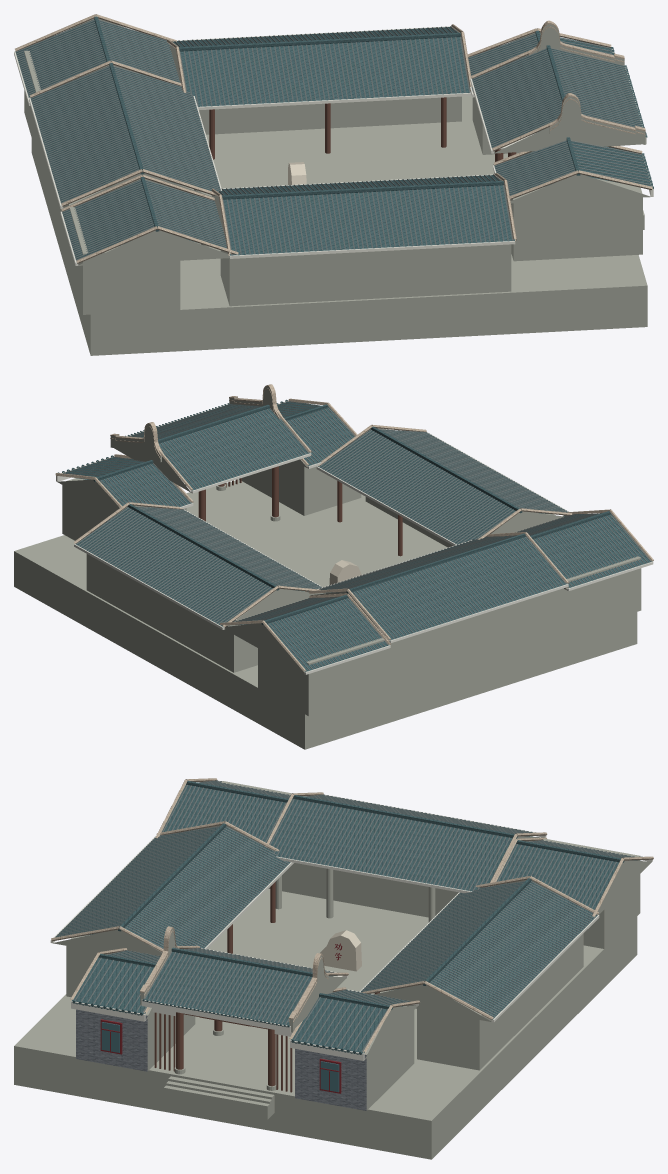
File: quanxue-island.glb
3 renders of one model, top to bottom at view 1: azimuth 30°, elevation 25°; view 2: azimuth 150°, elevation 25°; view 3: azimuth 270°, elevation 25°, orthographic. The views are drawn at different scales.
Visible parts, largest first — view 1: landmark-quanxue-island; view 2: landmark-quanxue-island; view 3: landmark-quanxue-island.
Part boxes in pixels (x1,y1,x2,y2): landmark-quanxue-island: (14, 14, 653, 355); landmark-quanxue-island: (14, 384, 653, 749); landmark-quanxue-island: (14, 778, 653, 1159).
Size of the model in its own units: 42.89 by 11.14 by 40.35.
11 materials, 3 textured.
